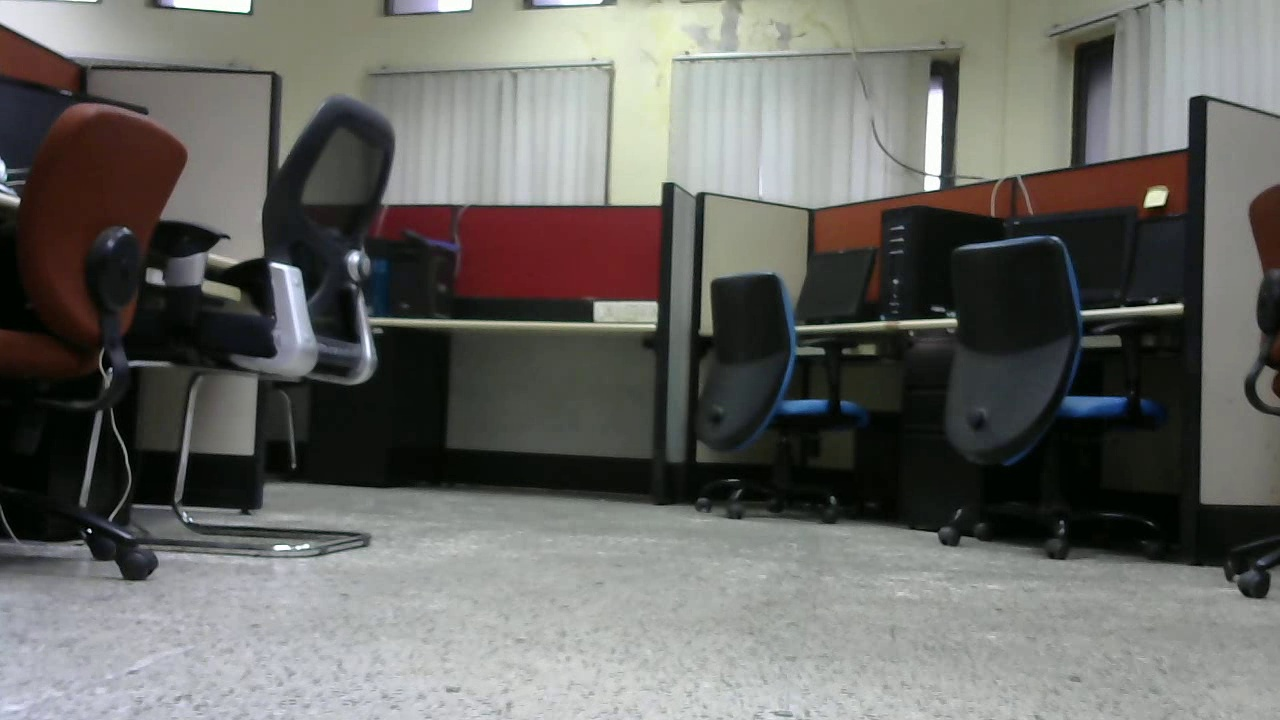chair: (184, 90, 403, 554), (8, 103, 181, 588), (930, 233, 1170, 567), (678, 269, 879, 525)
